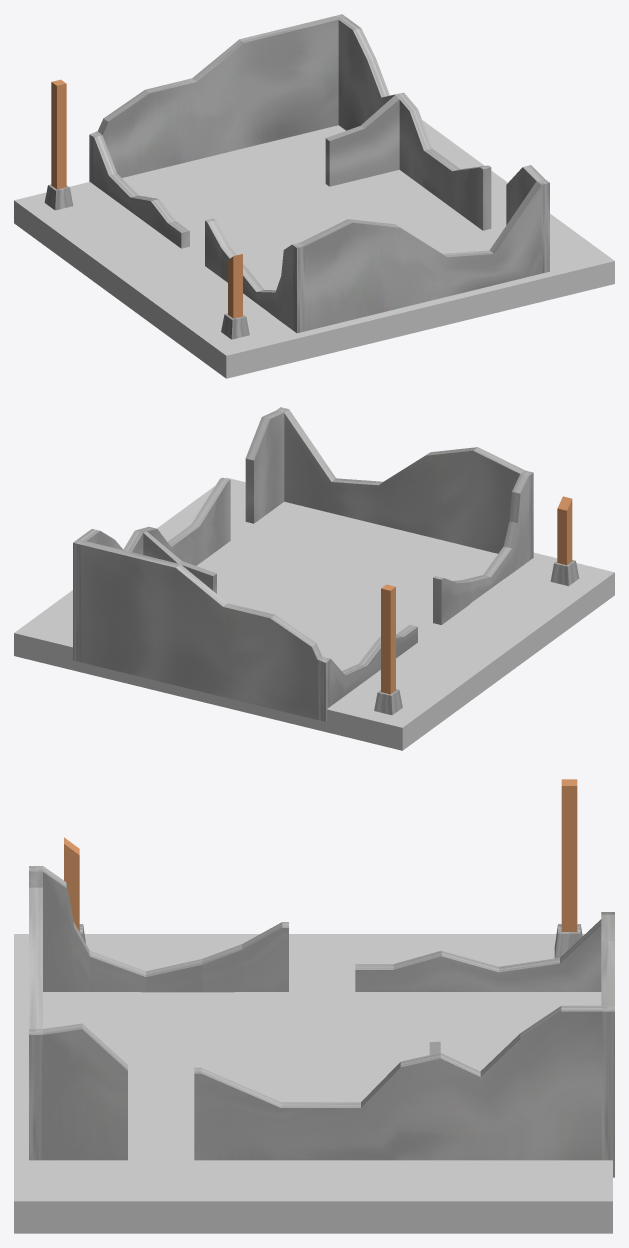
File: Rumah 1.fbx
3 renders of one model, top to bottom at view 1: azimuth 30°, elevation 25°; view 2: azimuth 150°, elevation 25°; view 3: azimuth 270°, elevation 25°, orthographic. The views are drawn at different scales.
Visible parts, largest first — view 1: rumah1.003, Cube.043; view 2: rumah1.003, Cube.043; view 3: Cube.043, rumah1.003.
Part boxes in pixels (x1=…): rumah1.003: x1=44, y1=14, x2=549, y2=339; Cube.043: x1=14, y1=120, x2=614, y2=378; rumah1.003: x1=73, y1=407, x2=579, y2=721; Cube.043: x1=14, y1=477, x2=614, y2=750; Cube.043: x1=14, y1=934, x2=612, y2=1233; rumah1.003: x1=29, y1=779, x2=614, y2=1177.
Bounding box in the file's own units: 1037 × 369 × 985.
